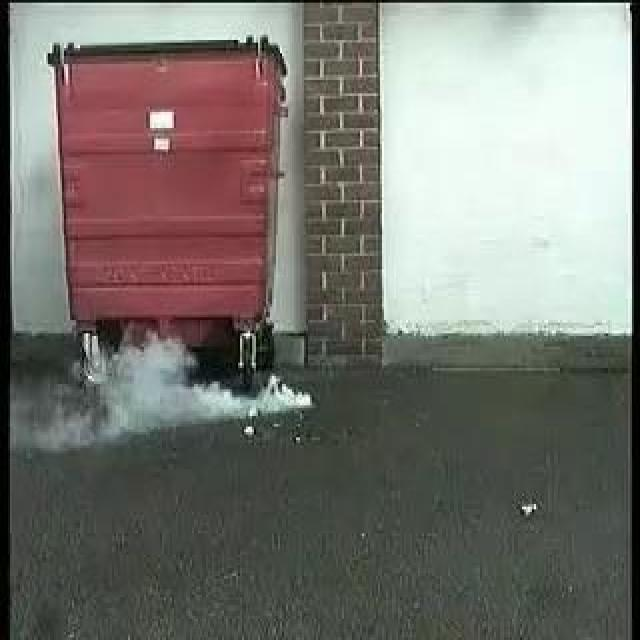Smoke: (102, 345, 308, 428)
